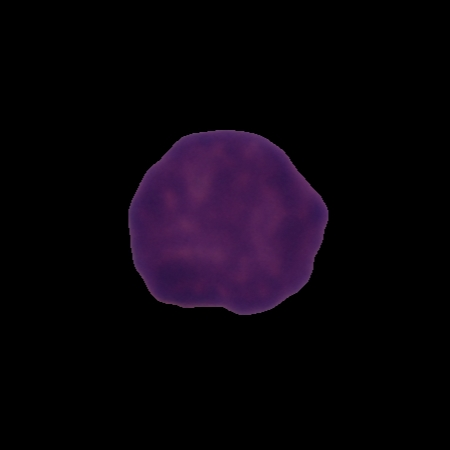HEM: (125, 126, 331, 317)
